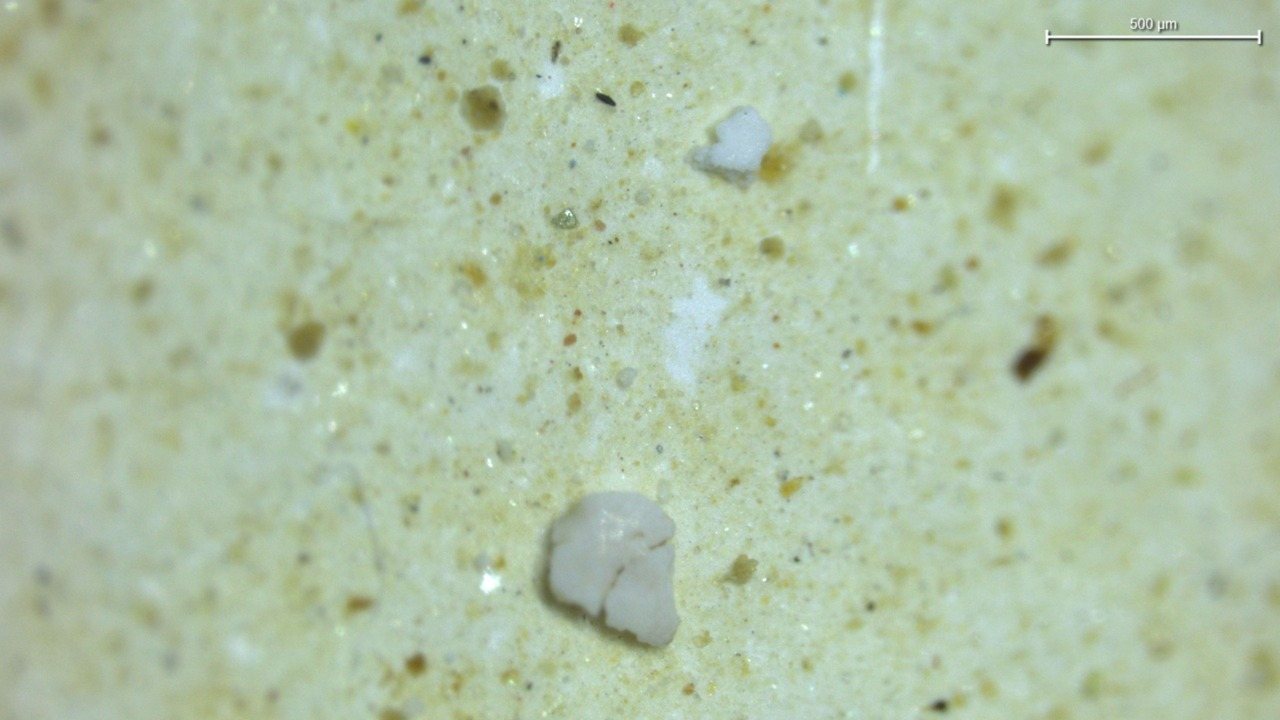microplastic_fragment: (546, 492, 678, 647), (691, 106, 772, 180)
